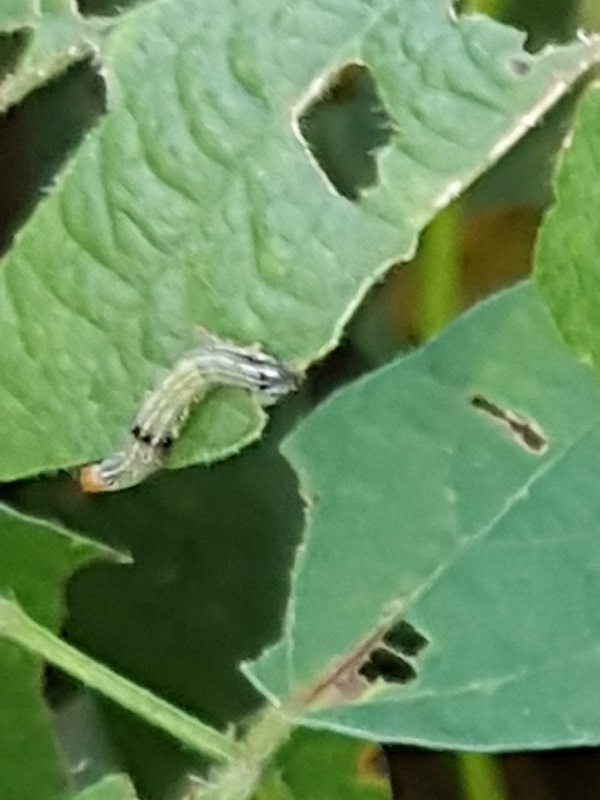Spodoptera_albula: (60, 313, 336, 502)
